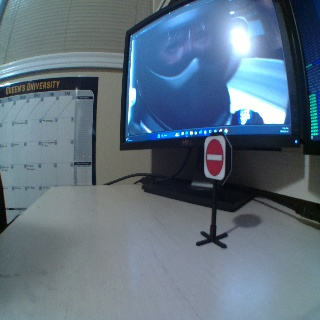sign_noentry: (203, 137, 224, 177)
